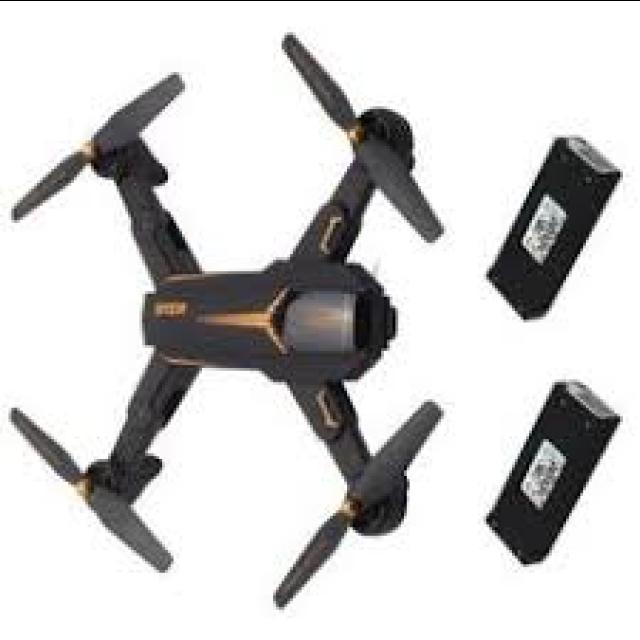drone: (6, 32, 462, 612)
